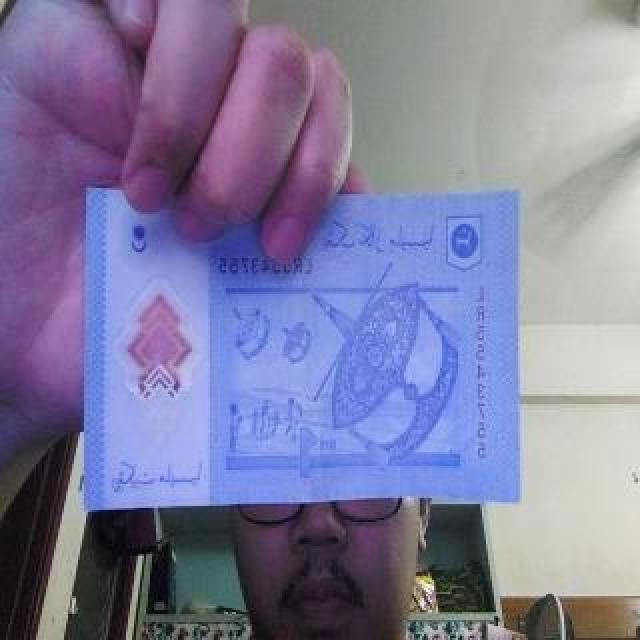1 Ringgit: (82, 192, 529, 512)
